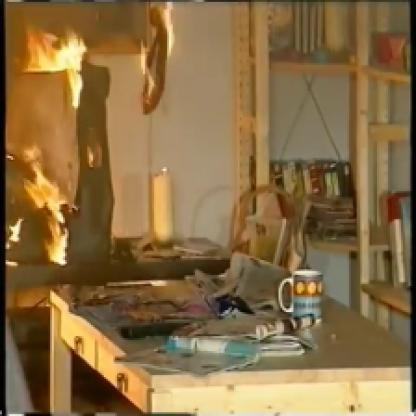fire: (0, 145, 101, 277), (113, 3, 189, 107), (17, 13, 95, 114)
